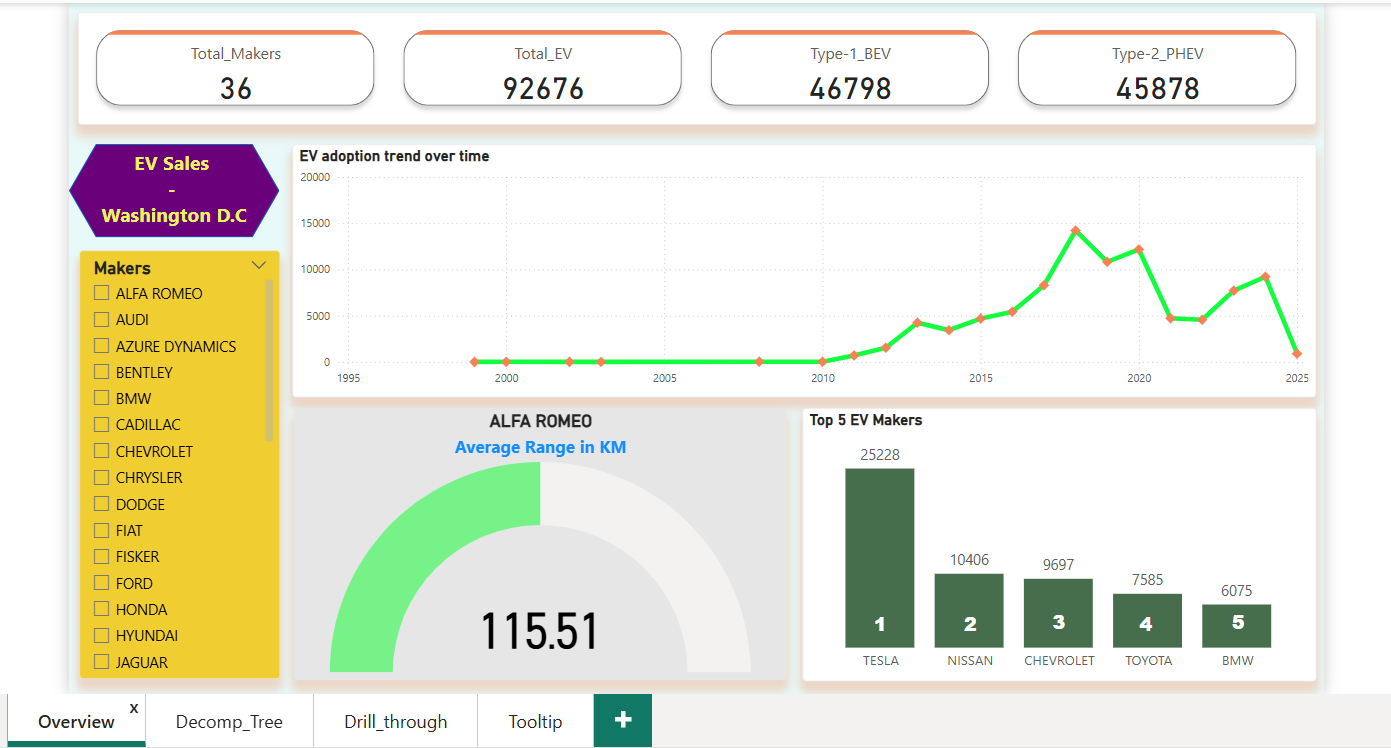

The dashboard page shown, as its layout file describes it:
{"tool":"powerbi","page":{"name":"Overview","canvas":[1380,760],"ordinal":0},"visuals":[{"type":"cardVisual","fields":{"Data":["Measure_.Total_Makers","Measure_.Total_EV","Measure_.Total_Count_BEV","Measure_.Total_Count_PHEV"]},"box":[10.2,10.2,1361.9,124],"z":0},{"type":"lineChart","title":"EV adoption trend over time","fields":{"Category":["EV_Dataset.Model Year"],"Y":["Measure_.Total_EV"]},"box":[246.2,154.5,1125.9,278.5],"z":1000},{"type":"clusteredColumnChart","title":"Top 5 EV Makers","fields":{"Category":["EV_Dataset.Make"],"Y":["Measure_.Total_EV"]},"box":[806.6,444.9,565.5,300.6],"z":2000},{"type":"textbox","box":[864.4,661.1,56,40.8],"z":3000},{"type":"textbox","box":[966.2,661.1,49.2,40.8],"z":5000},{"type":"textbox","box":[1061.3,660.6,56,40.8],"z":6000},{"type":"textbox","box":[1156.4,661.1,56,40.8],"z":7000},{"type":"textbox","box":[1256.6,660.6,57.7,40.8],"z":8000},{"type":"shape","box":[0,155,231.5,102.6],"z":9000},{"type":"textbox","box":[15.7,155.7,198.7,103.6],"z":10000},{"type":"slicer","fields":{"Values":["Distinct_Makers.Distinct_Makers"]},"box":[10.9,272.9,220.5,471.6],"z":11000},{"type":"gauge","fields":{"Y":["Avg(EV_Dataset.Electric Range)"]},"box":[246.7,445.4,541.5,299.1],"z":12000}]}

Visuals, with their boxes on the page's 1380x760 design canvas (x1, y1, x2, y2). These are canvas units, not pixel positions in the 1391x748 screenshot, which may show the page scaled, cropped or inside an application window:
cardVisual - Measure_.Total_Makers x Measure_.Total_EV: 10,10,1372,134
"EV adoption trend over time" lineChart: 246,154,1372,433
"Top 5 EV Makers" clusteredColumnChart: 807,445,1372,746
textbox: 864,661,920,702
textbox: 966,661,1015,702
textbox: 1061,661,1117,701
textbox: 1156,661,1212,702
textbox: 1257,661,1314,701
shape: 0,155,232,258
textbox: 16,156,214,259
slicer - Distinct_Makers.Distinct_Makers: 11,273,231,744
gauge - Avg(EV_Dataset.Electric Range): 247,445,788,744
